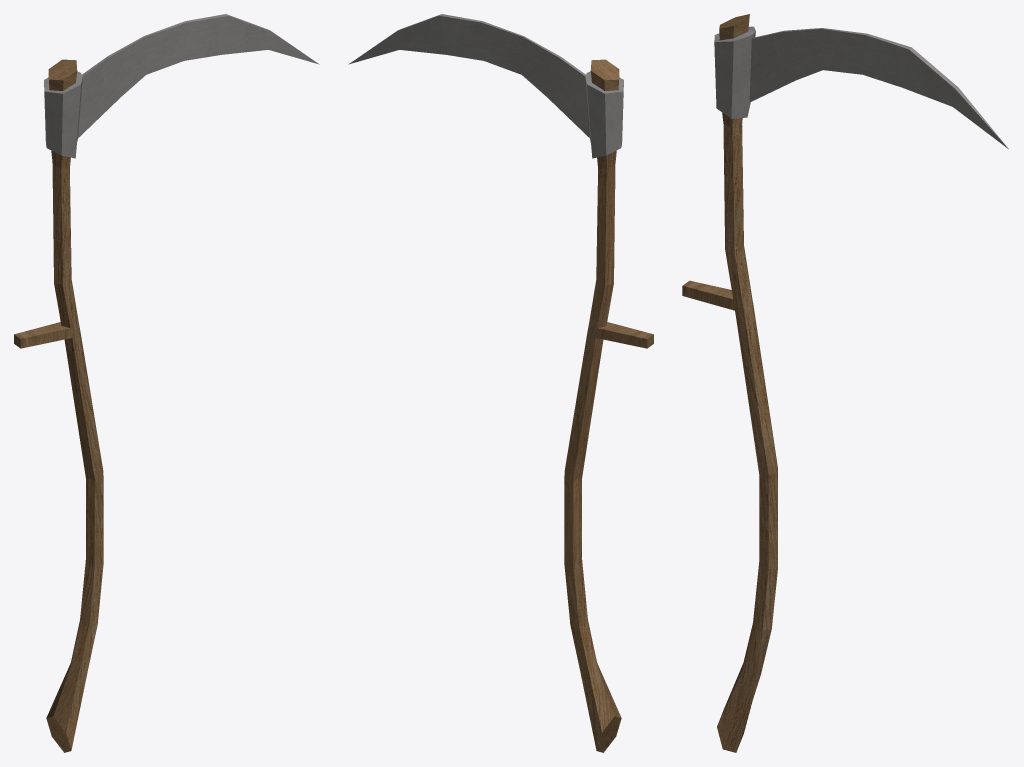
The model's file is Scythe.obj.
3 views of the same model, side by side, from view 1: azimuth 30°, elevation 25°; view 2: azimuth 150°, elevation 25°; view 3: azimuth 330°, elevation 25° (orthographic). The views are drawn at different scales.
Parts seen in each view (by area): view 1: pCylinder1; view 2: pCylinder1; view 3: pCylinder1.
Part boxes in pixels (bbox=[...]): pCylinder1: bbox=[14, 14, 319, 752]; pCylinder1: bbox=[348, 14, 653, 752]; pCylinder1: bbox=[682, 14, 1008, 752].
Bounding box in the file's own units: 1.24 × 2.74 × 0.1389.
Materials: 1 (1 with a texture image).
